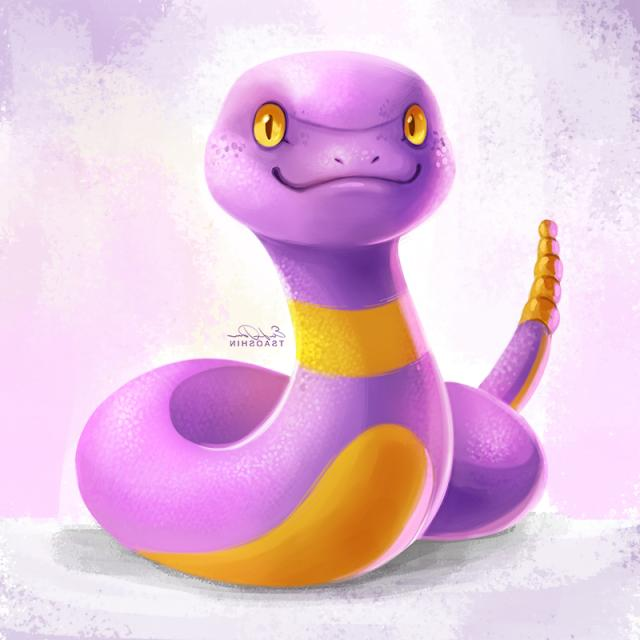Ekans: (68, 47, 566, 583)
